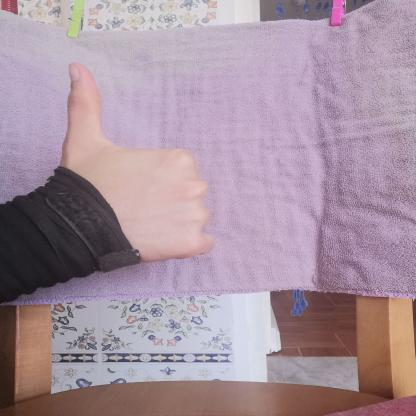ALIF: (37, 44, 236, 284)
